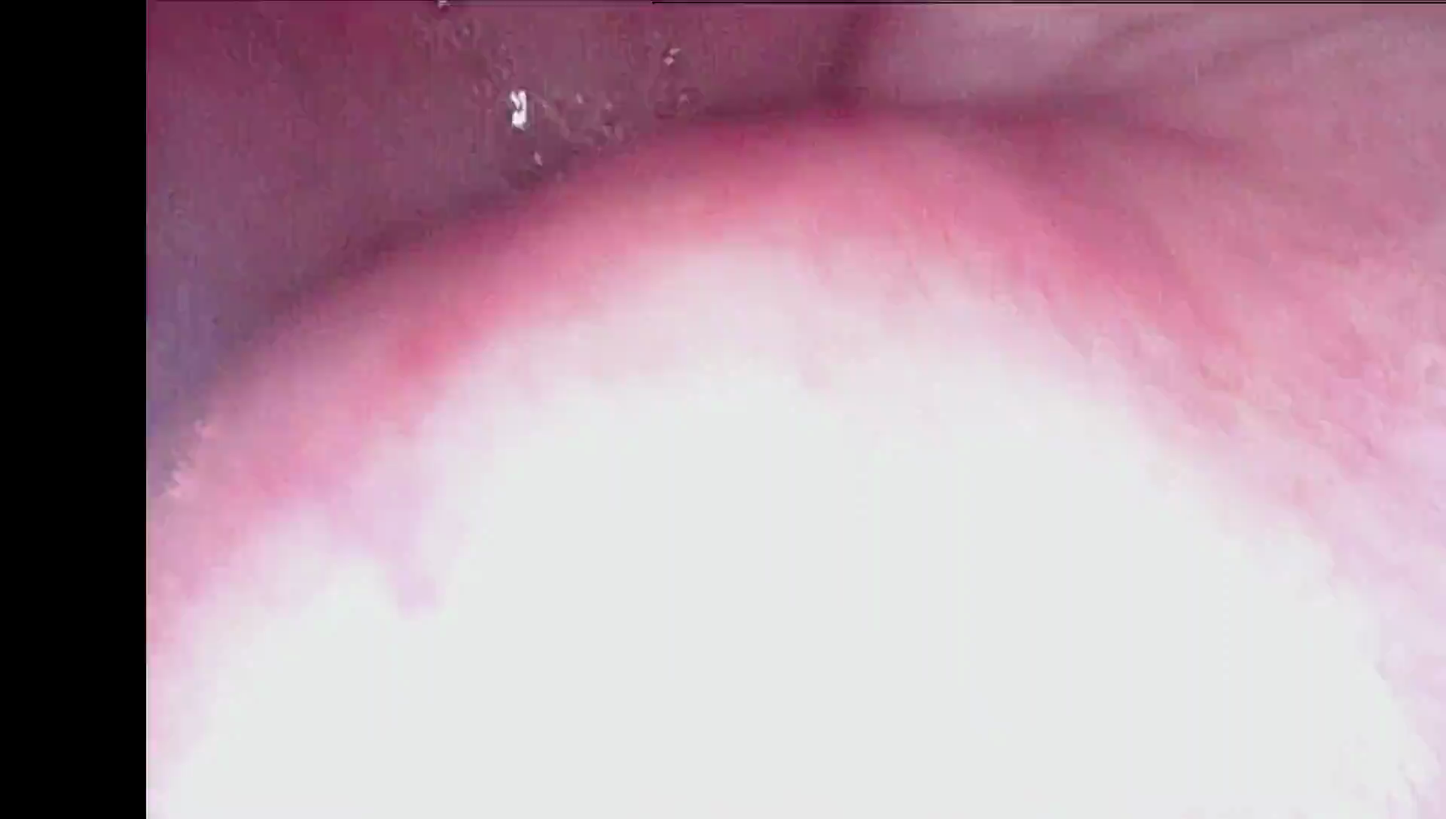close_wall: (165, 248, 1391, 819)
